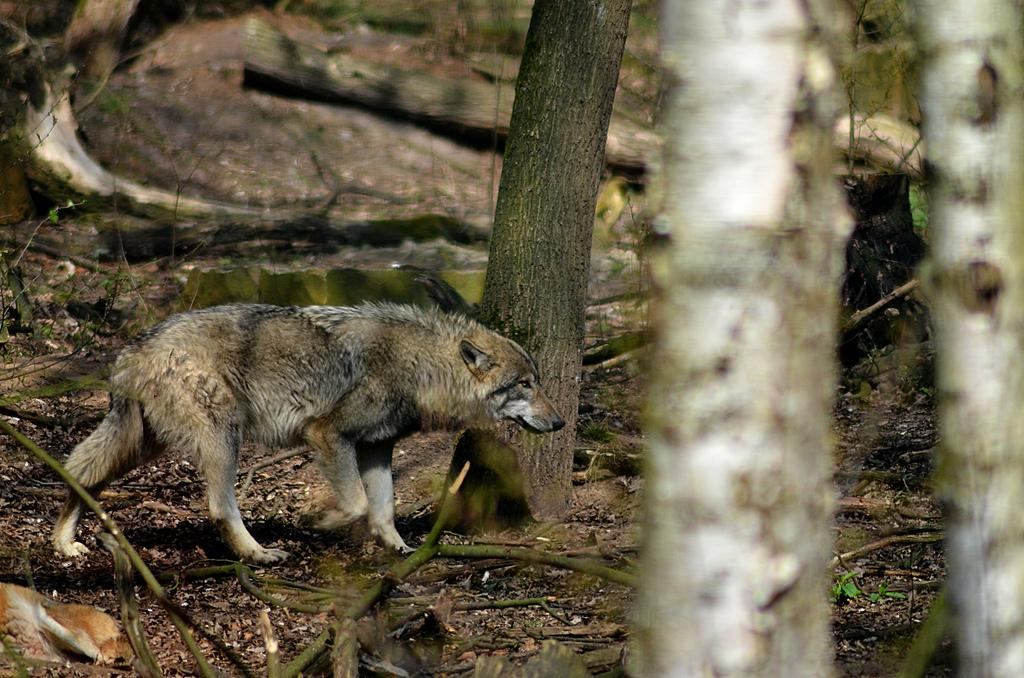Wolf: (49, 303, 572, 567)
